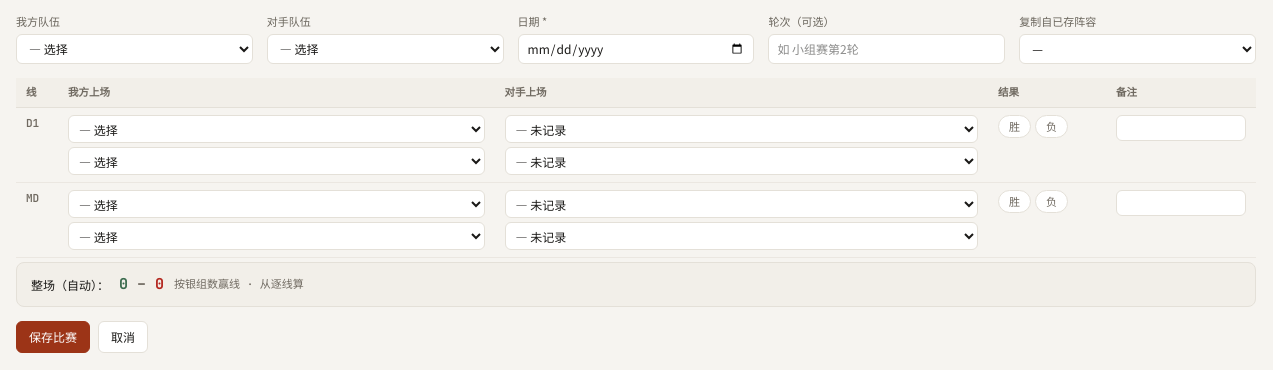
Test: MatchEntryForm › updates the live whole-tie outcome when lines are won/lost
What coordinates should you click on to do the following:
click the button named "D1 胜"
I would click on:
 (1014, 127)
Its box is [998, 115, 1031, 138].
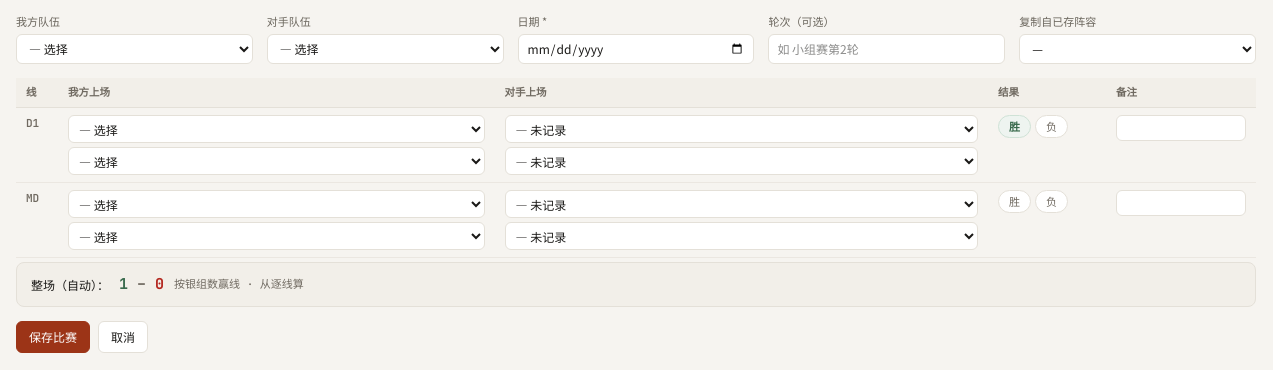
What coordinates should you click on to do the following:
click the button named "MD 胜"
I would click on:
 (1014, 202)
Its box is [998, 190, 1031, 213].
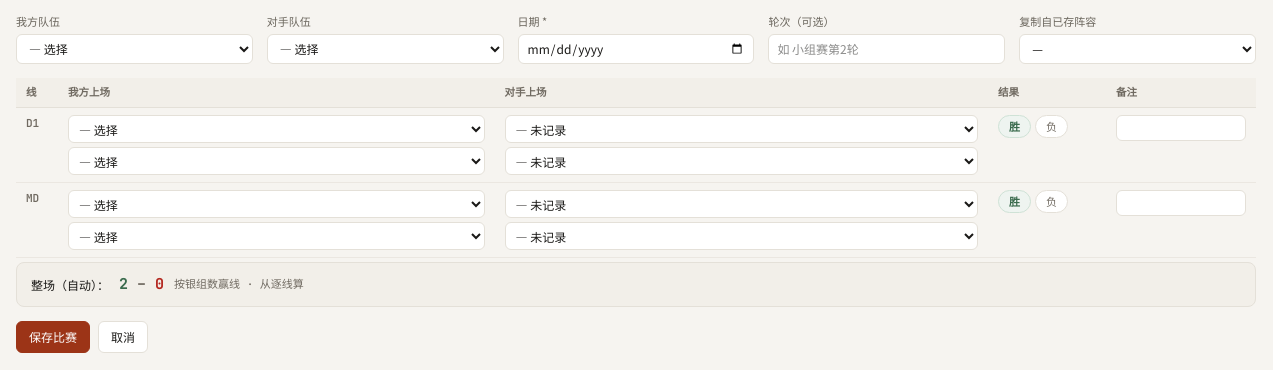
Expected: the element with test id "live-outcome" reads "2 – 0", [119, 273, 164, 296]
